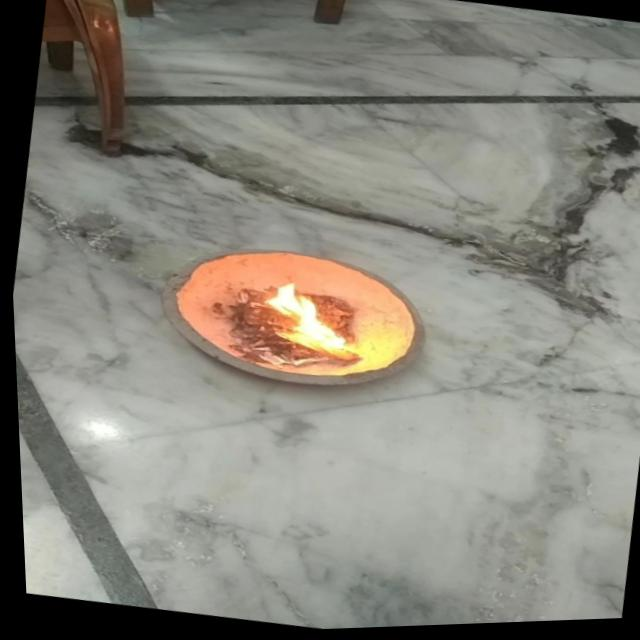fire: (251, 276, 367, 365)
